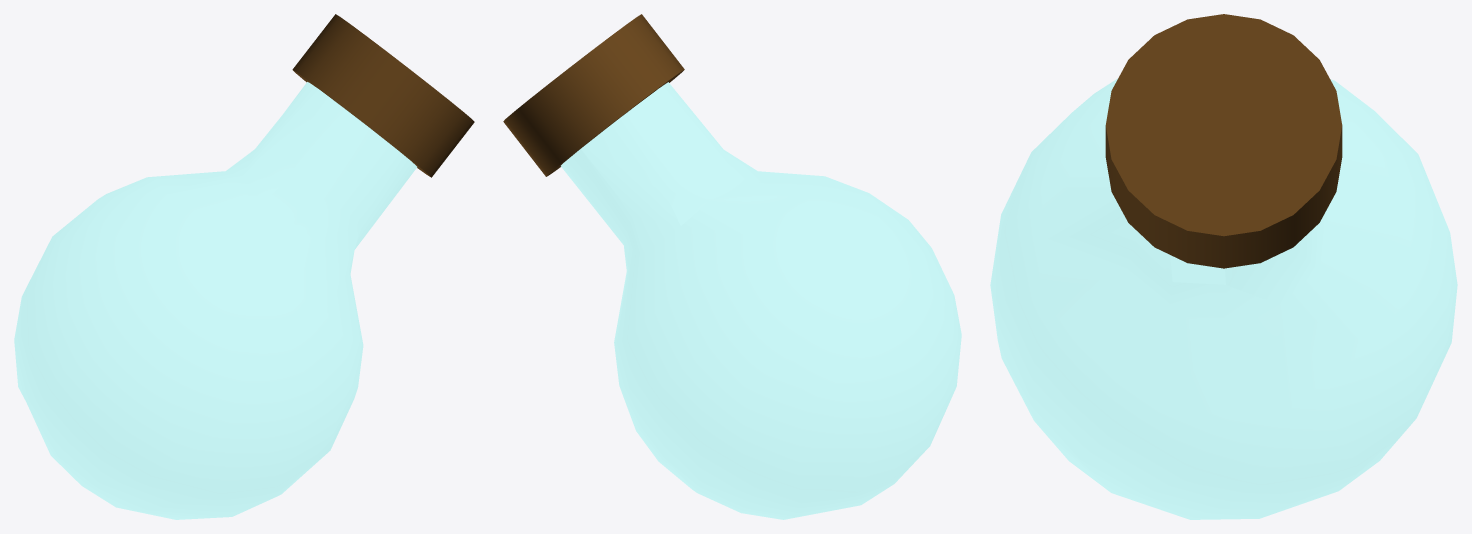
File: Flask.glb
The picture shows the model from 3 angles, left to right: view 1: azimuth 30°, elevation 25°; view 2: azimuth 150°, elevation 25°; view 3: azimuth 270°, elevation 25°; orthographic projection. The views are drawn at different scales.
Parts seen in each view (by area): view 1: Flask_Tube, Flask_Cork; view 2: Flask_Tube, Flask_Cork; view 3: Flask_Tube, Flask_Cork.
Boxes of the visible parts, left/top/right/bottom form: Flask_Tube: left=14, top=82, right=417, bottom=519; Flask_Cork: left=292, top=14, right=474, bottom=177; Flask_Tube: left=561, top=82, right=961, bottom=519; Flask_Cork: left=503, top=14, right=684, bottom=176; Flask_Tube: left=990, top=78, right=1457, bottom=519; Flask_Cork: left=1105, top=14, right=1342, bottom=268.
Size of the model in its own units: 0.6897 by 0.6827 by 0.4939.
